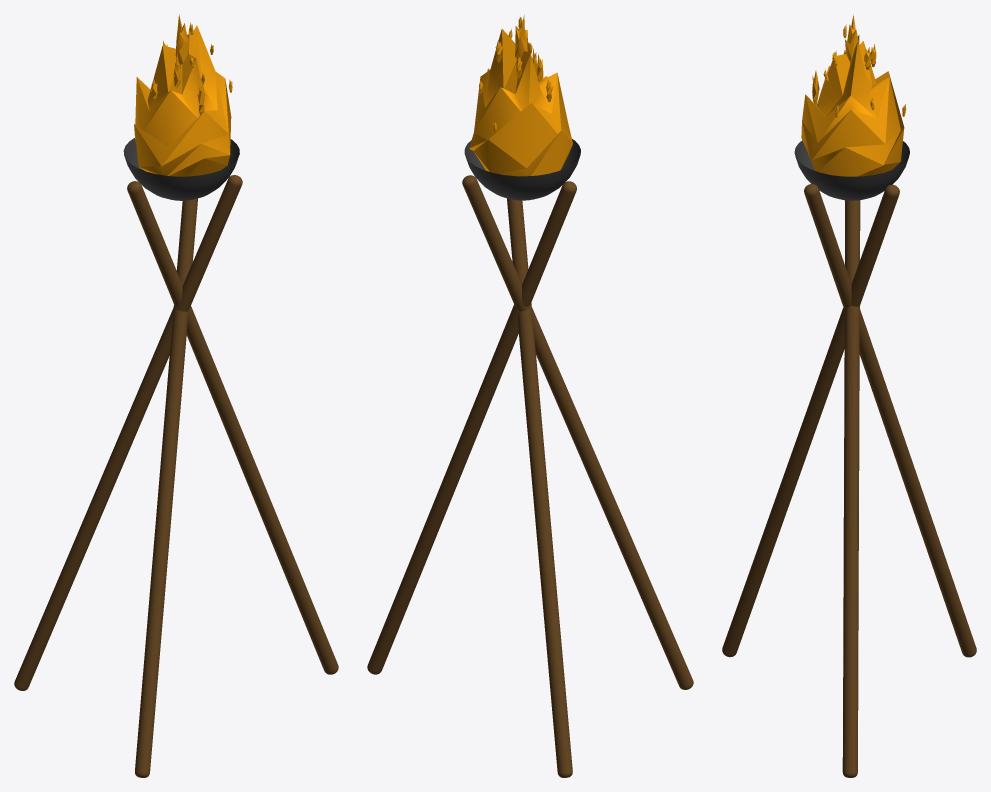
Rendered from Torch.fbx.
3 views of the same model, side by side, from view 1: azimuth 30°, elevation 25°; view 2: azimuth 150°, elevation 25°; view 3: azimuth 270°, elevation 25° (orthographic).
Visible parts, largest first — view 1: pSphere1.001; view 2: pSphere1.001; view 3: pSphere1.001.
Boxes of the visible parts, x1=… form: pSphere1.001: x1=14, y1=14, x2=338, y2=777; pSphere1.001: x1=367, y1=15, x2=693, y2=777; pSphere1.001: x1=722, y1=14, x2=976, y2=777.
Bounding box in the file's own units: 101 × 255 × 85.24.
1 material, 1 textured.
